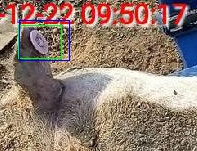text: (18, 25, 61, 58)
